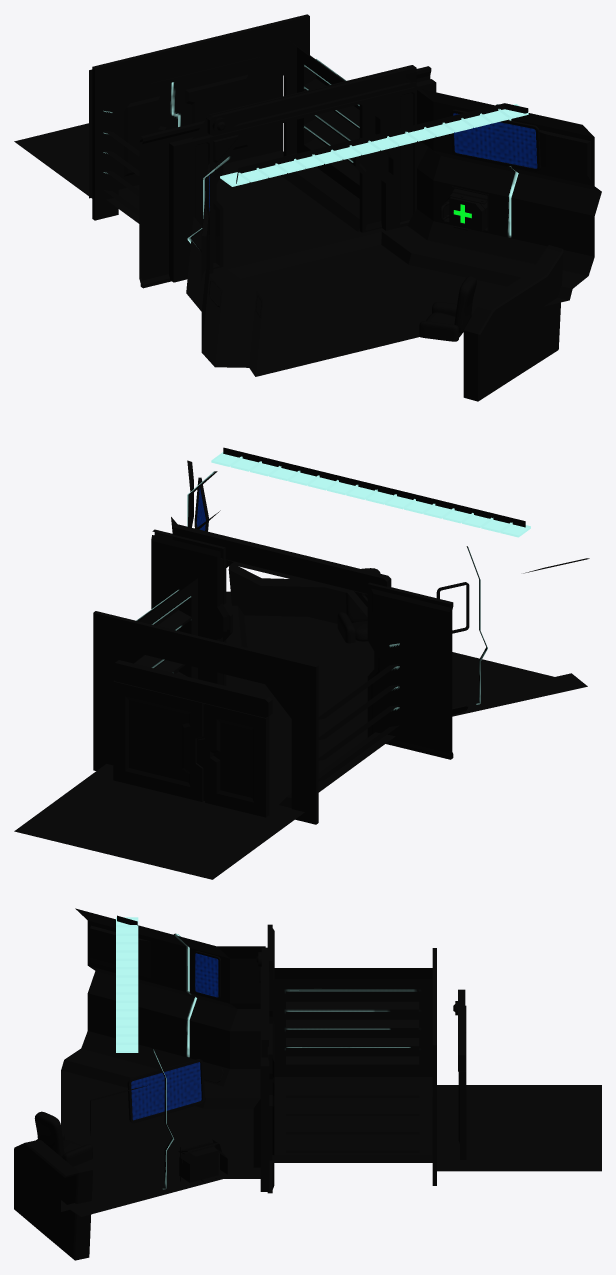
The model's file is StanzaDelRiposo.fbx.
The picture shows the model from 3 angles, top to bottom: view 1: azimuth 30°, elevation 25°; view 2: azimuth 150°, elevation 25°; view 3: azimuth 270°, elevation 25°; orthographic projection. The views are drawn at different scales.
Parts seen in each view (by area): view 1: Component_6, Component_2, Component_5, Component_12, Porta_Aperta, Porta, Component_8, Component_4, Schermo_1, Component_7, Poltrona, Kit (+1 smaller); view 2: Component_6, Porta_Aperta, Porta, Component_2, Component_8, Component_12, Component_4, Component_3, Poltrona, Component_5; view 3: Component_6, Component_12, Schermo_1, Component_4, Porta_Aperta, Component_5, Poltrona, Schermo_2, Component_2, Kit, Component_8, Porta (+1 smaller).
Boxes of the visible parts, bbox=[...] form: Component_6: bbox=[14, 31, 601, 376]; Component_2: bbox=[92, 14, 309, 220]; Component_5: bbox=[169, 79, 436, 282]; Component_12: bbox=[463, 245, 563, 401]; Porta_Aperta: bbox=[139, 66, 431, 288]; Porta: bbox=[118, 61, 259, 189]; Component_8: bbox=[206, 65, 416, 135]; Component_4: bbox=[220, 104, 528, 186]; Schermo_1: bbox=[450, 109, 540, 171]; Component_7: bbox=[89, 56, 282, 198]; Poltrona: bbox=[419, 276, 476, 341]; Kit: bbox=[440, 197, 487, 231]; Component_6: bbox=[14, 447, 589, 879]; Porta_Aperta: bbox=[151, 529, 453, 759]; Porta: bbox=[113, 680, 269, 817]; Component_2: bbox=[93, 611, 318, 824]; Component_8: bbox=[172, 524, 391, 593]; Component_12: bbox=[228, 564, 346, 623]; Component_4: bbox=[211, 452, 530, 537]; Component_3: bbox=[115, 660, 272, 717]; Poltrona: bbox=[337, 568, 380, 643]; Component_5: bbox=[221, 558, 367, 616]; Component_6: bbox=[61, 908, 601, 1216]; Component_12: bbox=[14, 1140, 92, 1260]; Schermo_1: bbox=[127, 1059, 204, 1123]; Component_4: bbox=[116, 917, 138, 1052]; Porta_Aperta: bbox=[267, 924, 274, 1193]; Component_5: bbox=[259, 947, 269, 1191]; Poltrona: bbox=[34, 1111, 92, 1166]; Schermo_2: bbox=[193, 951, 220, 999]; Component_2: bbox=[432, 948, 436, 1185]; Kit: bbox=[179, 1147, 218, 1182]; Component_8: bbox=[256, 948, 268, 1057]; Porta: bbox=[458, 1005, 466, 1159].
Bounding box in the file's own units: 428 × 224 × 567.
